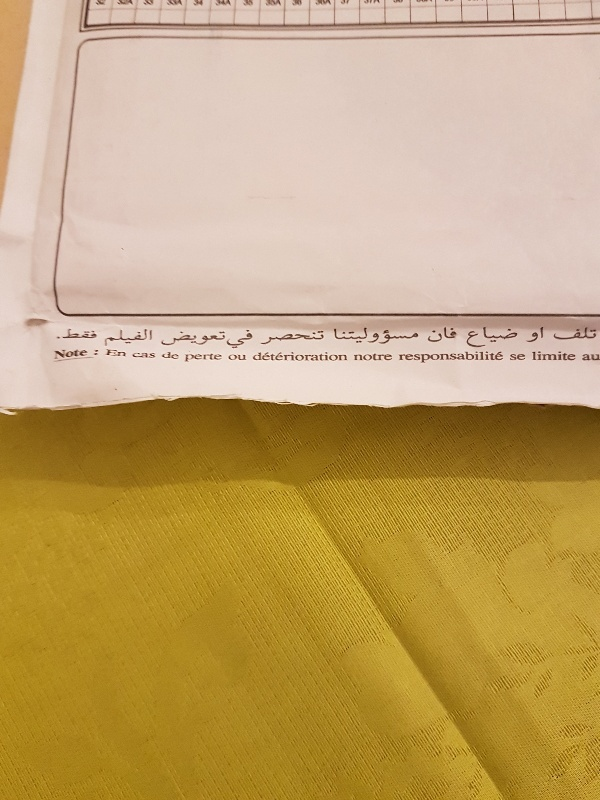text: (481, 325, 496, 349), (497, 325, 512, 349), (466, 325, 480, 349), (225, 328, 240, 350), (433, 324, 448, 345), (241, 328, 255, 350), (529, 326, 544, 346), (161, 328, 176, 348), (177, 328, 192, 348), (193, 328, 208, 348), (209, 328, 224, 348), (561, 324, 576, 343), (577, 324, 592, 343), (337, 326, 352, 345), (353, 326, 368, 345), (369, 326, 384, 345), (385, 326, 400, 345), (401, 326, 416, 345), (113, 329, 128, 348), (129, 329, 144, 348), (273, 329, 288, 346), (289, 329, 304, 346), (305, 329, 320, 346), (65, 327, 80, 342), (81, 327, 96, 342), (65, 347, 80, 362), (561, 349, 577, 363), (449, 324, 459, 345), (545, 349, 560, 363), (50, 347, 64, 362), (260, 329, 272, 346), (401, 351, 416, 364), (417, 351, 432, 364), (433, 351, 448, 364), (449, 351, 464, 364), (465, 351, 480, 364), (481, 351, 496, 364), (513, 325, 521, 349), (551, 324, 560, 343), (145, 329, 154, 348), (532, 349, 544, 363), (257, 351, 272, 362), (273, 351, 288, 362), (289, 351, 304, 362), (305, 351, 320, 362), (321, 351, 336, 362), (161, 350, 176, 361), (113, 348, 128, 359), (104, 329, 112, 348), (353, 352, 368, 362), (369, 352, 384, 362), (193, 353, 208, 363), (513, 351, 526, 362), (337, 351, 350, 362), (209, 353, 223, 363), (81, 347, 89, 362), (497, 351, 506, 364), (593, 324, 599, 343), (582, 352, 592, 363), (228, 353, 240, 362), (427, 324, 432, 345), (57, 327, 64, 342), (132, 351, 144, 359), (145, 351, 157, 359), (385, 352, 394, 362), (321, 329, 326, 346), (184, 353, 192, 363), (593, 352, 600, 363), (105, 348, 112, 359), (332, 326, 336, 345), (417, 326, 421, 345), (241, 353, 248, 362), (525, 326, 528, 346), (251, 351, 256, 362), (177, 350, 181, 361), (92, 347, 96, 358), (545, 326, 547, 346), (158, 328, 160, 348), (225, 328, 227, 348), (509, 351, 512, 362), (97, 347, 100, 358), (398, 351, 400, 364), (97, 327, 98, 342)
